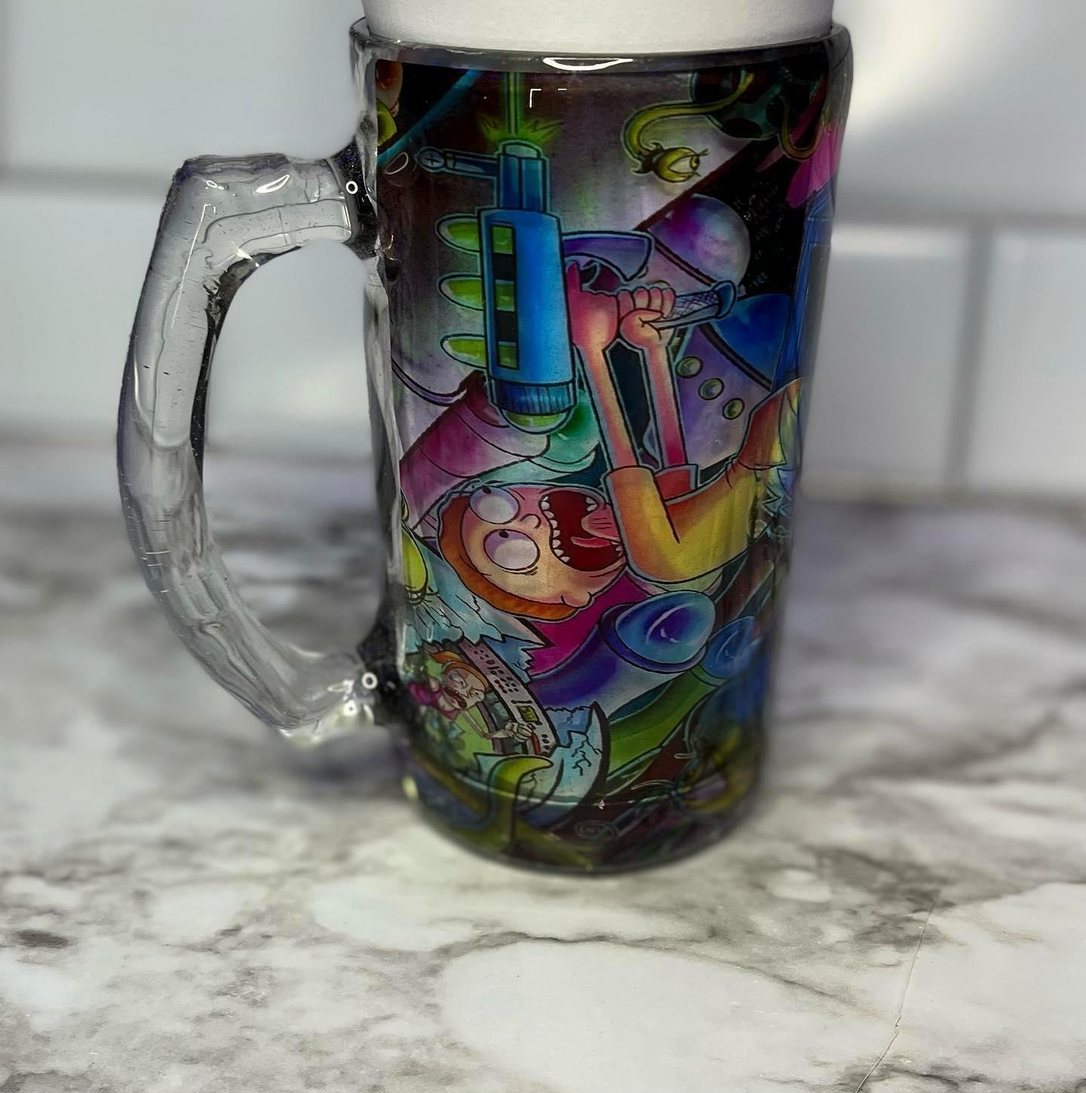glass-mug: (106, 0, 871, 867)
